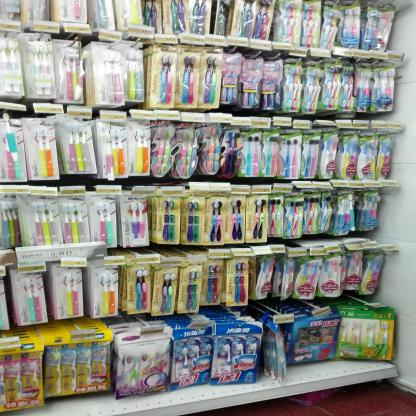Void: (298, 364, 382, 375), (63, 398, 113, 413)
